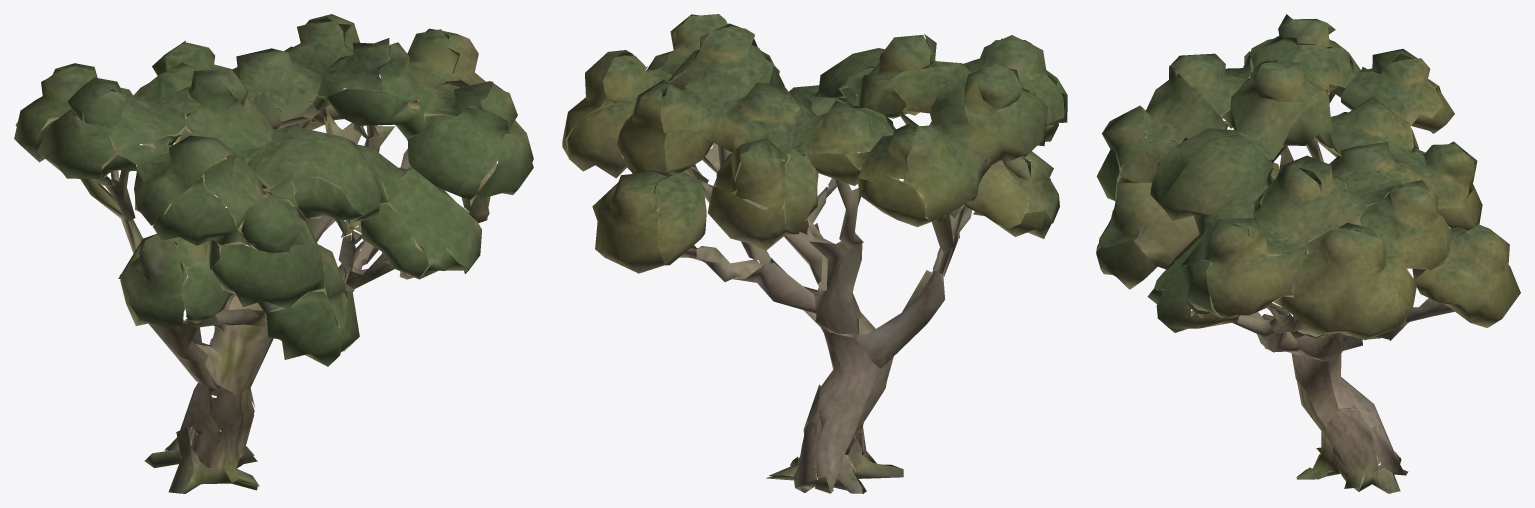
File: forest_tree_canopy_01_lod1.glb
3 views of the same model, side by side, from view 1: azimuth 30°, elevation 25°; view 2: azimuth 150°, elevation 25°; view 3: azimuth 270°, elevation 25° (orthographic). The views are drawn at different scales.
Visible parts, largest first — view 1: candidate_005_lod1; view 2: candidate_005_lod1; view 3: candidate_005_lod1.
Part boxes in pixels (box(x1,y1,x2,y2)): candidate_005_lod1: box(14, 14, 533, 493); candidate_005_lod1: box(562, 14, 1067, 493); candidate_005_lod1: box(1096, 14, 1520, 493).
Size of the model in its own units: 0.2831 by 0.2559 by 0.2471.
Materials: 1 (1 with a texture image).
